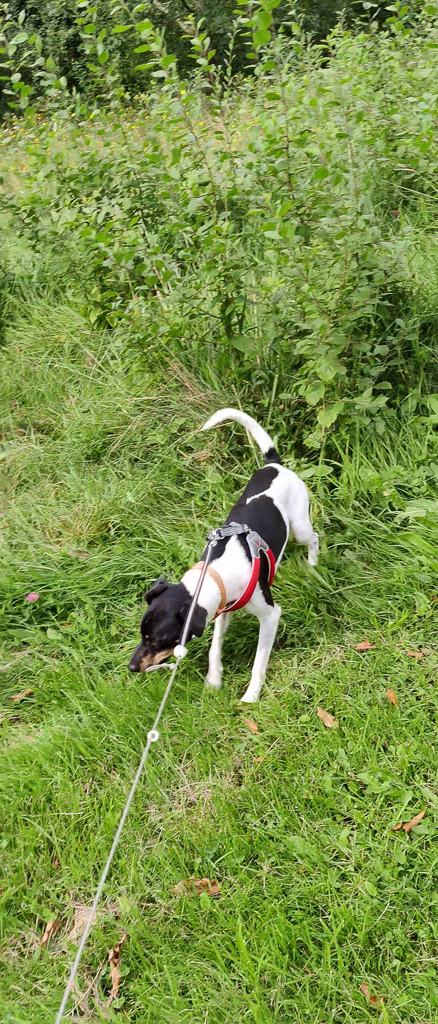Dog: (115, 399, 352, 722)
